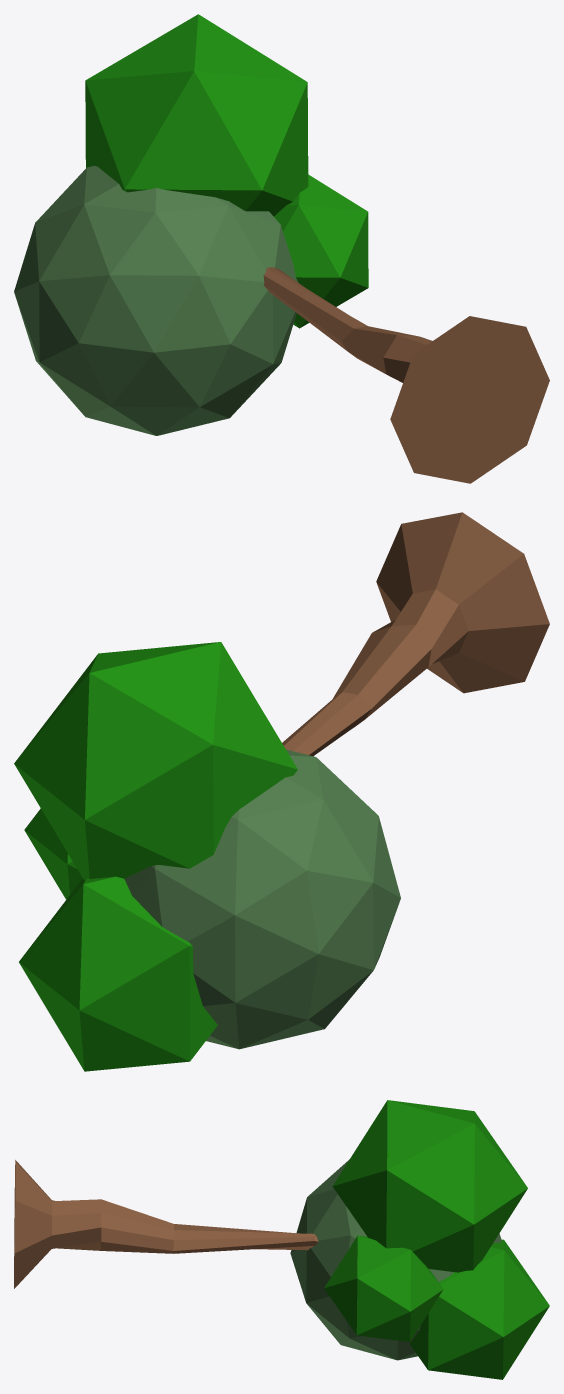
The model's file is ENVI_Pohon_Kecil.fbx.
3 renders of one model, top to bottom at view 1: azimuth 30°, elevation 25°; view 2: azimuth 150°, elevation 25°; view 3: azimuth 270°, elevation 25°, orthographic. The views are drawn at different scales.
Parts seen in each view (by area): view 1: Pohon Kecil; view 2: Pohon Kecil; view 3: Pohon Kecil.
Boxes of the visible parts, x1,y1,x2,y2 form: Pohon Kecil: (14, 14, 549, 483); Pohon Kecil: (14, 512, 549, 1071); Pohon Kecil: (14, 1100, 549, 1379).
Bounding box in the file's own units: 444 × 476 × 880.
